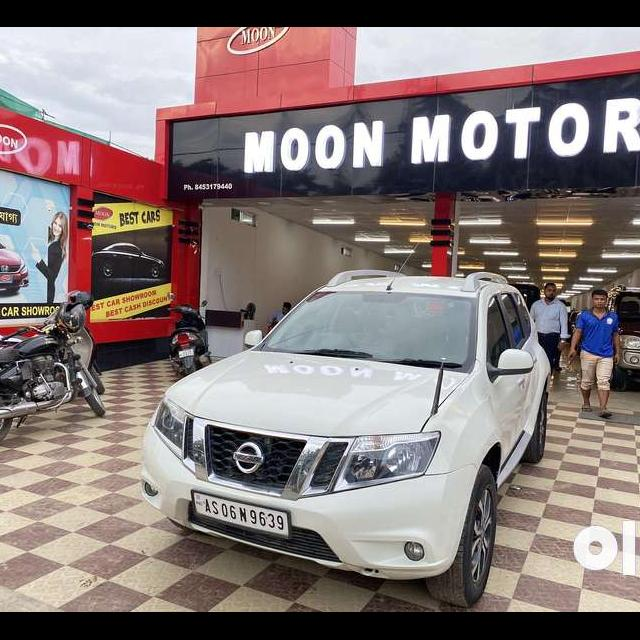Indian_Number_Plate: (193, 491, 289, 540)
